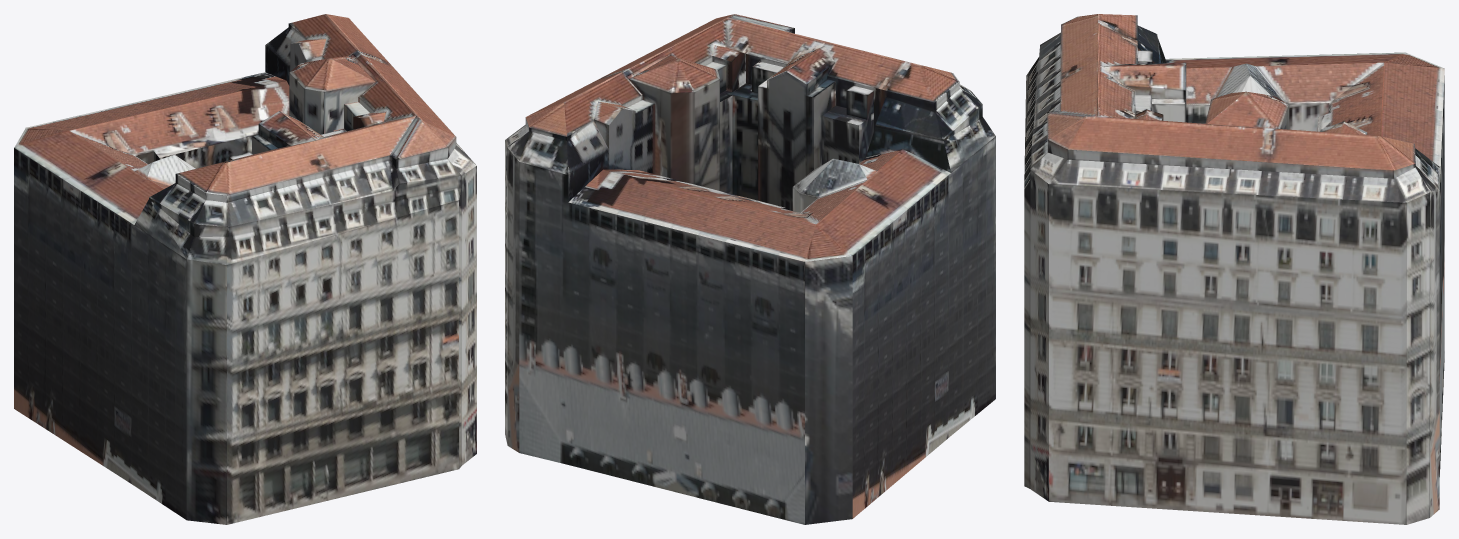
3 renders of one model, left to right at view 1: azimuth 30°, elevation 25°; view 2: azimuth 150°, elevation 25°; view 3: azimuth 270°, elevation 25°, orthographic. The views are drawn at different scales.
Parts seen in each view (by area): view 1: Z_UP; view 2: Z_UP; view 3: Z_UP.
Boxes of the visible parts, x1,y1,x2,y2 form: Z_UP: (14,14,476,524); Z_UP: (505,14,995,524); Z_UP: (1024,14,1444,524).
Size of the model in its own units: 38.32 by 36.63 by 36.82.
Materials: 2 (1 with a texture image).
